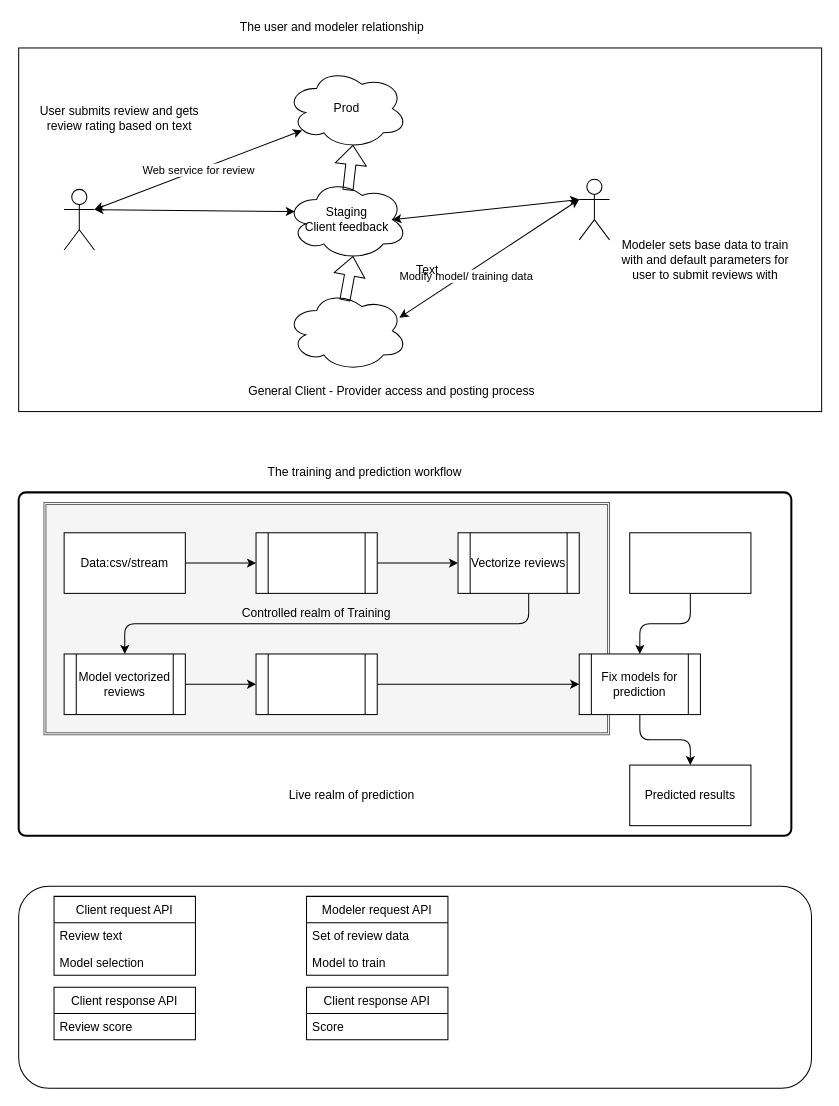
The diagram is 839 pixels wide and 1106 high, and some of its shapes have lost their labels. The shapes that lost their labels are listed below. From the top down, each one's centre as x and y in pixels, then its label:
At point 78,219: "User".
At point 594,209: "Modeller".
At point 346,330: "Development".
At point 316,562: "Clean reviews".
At point 690,562: "Data:csv/stream Live".
At point 316,684: "Validate model Test err/ROC".
